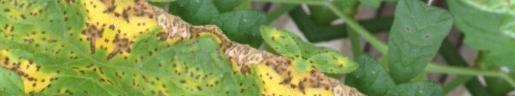Tomato Septoria leaf spot: (148, 5, 312, 96)
